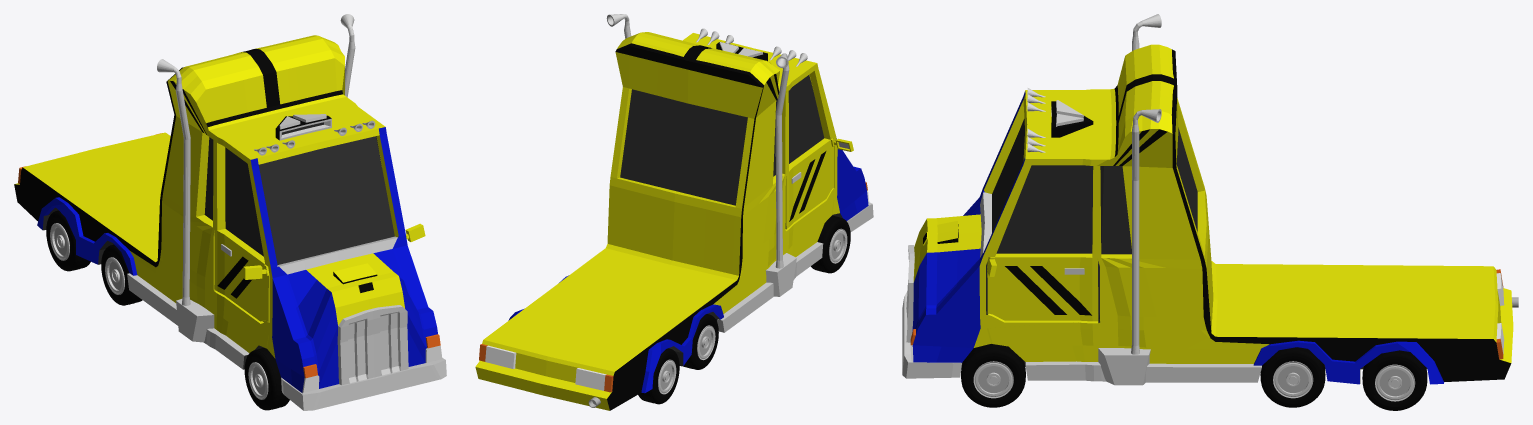
3 renders of one model, left to right at view 1: azimuth 30°, elevation 25°; view 2: azimuth 150°, elevation 25°; view 3: azimuth 270°, elevation 25°, orthographic. The views are drawn at different scales.
Parts seen in each view (by area): view 1: BODY31A, WHEEL.001, WHEEL.006, WHEEL.004; view 2: BODY31A, WHEEL.001, WHEEL.006, WHEEL.004; view 3: BODY31A, WHEEL.003, WHEEL.005, WHEEL.002.
Part boxes in pixels (x1,y1,x2,y2): BODY31A: (14,14,446,410); WHEEL.001: (244,347,289,410); WHEEL.006: (46,210,90,271); WHEEL.004: (101,244,142,305); BODY31A: (475,14,873,410); WHEEL.001: (811,215,850,273); WHEEL.006: (638,348,679,404); WHEEL.004: (683,314,718,369); BODY31A: (902,14,1513,385); WHEEL.003: (961,344,1025,407); WHEEL.005: (1362,350,1427,410); WHEEL.002: (1260,347,1325,407).
Size of the model in its own units: 158 by 227 by 409.
